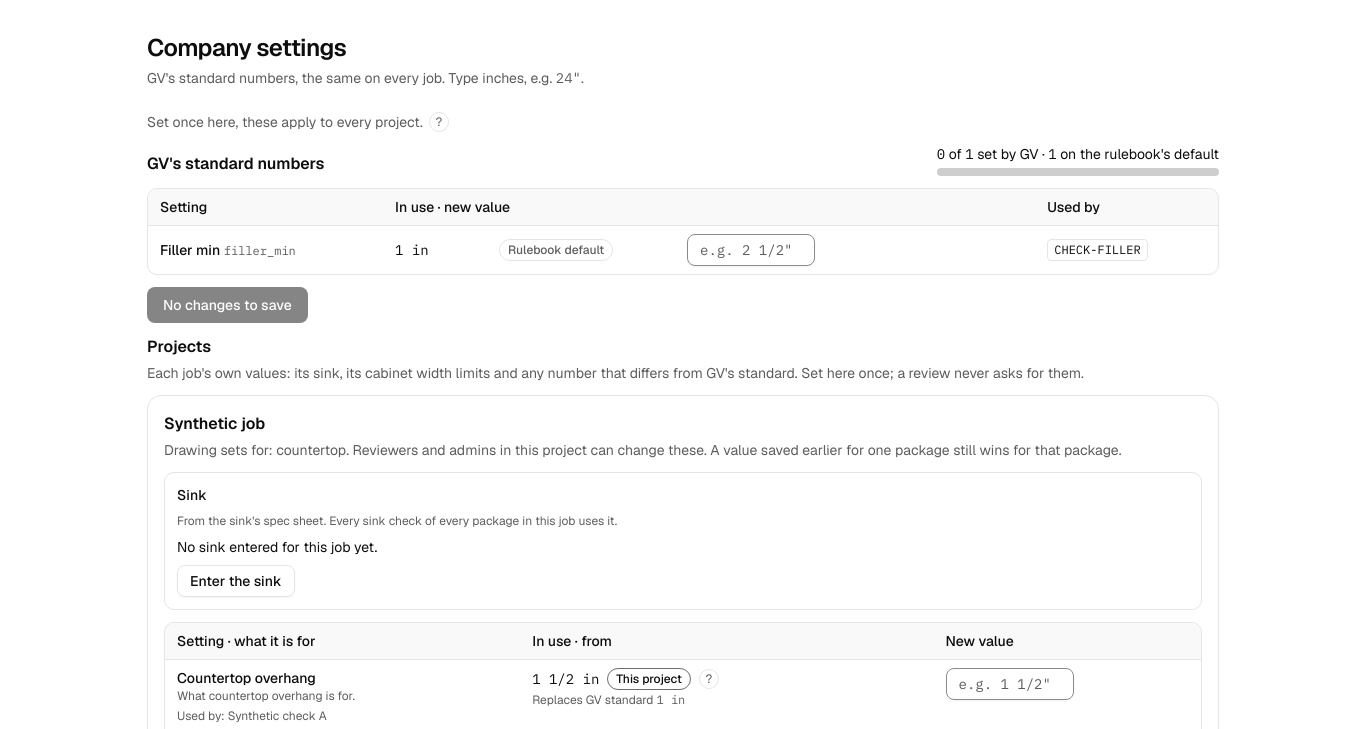
Test: GV's standards: the same plain checks (#1369 items 2 and 4) › asks for the unit before an admin sends a bare number, and says a failed save as a status
Type "1" into the field labelled "Filler min" at coordinates (751, 250), box [687,234,815,266]
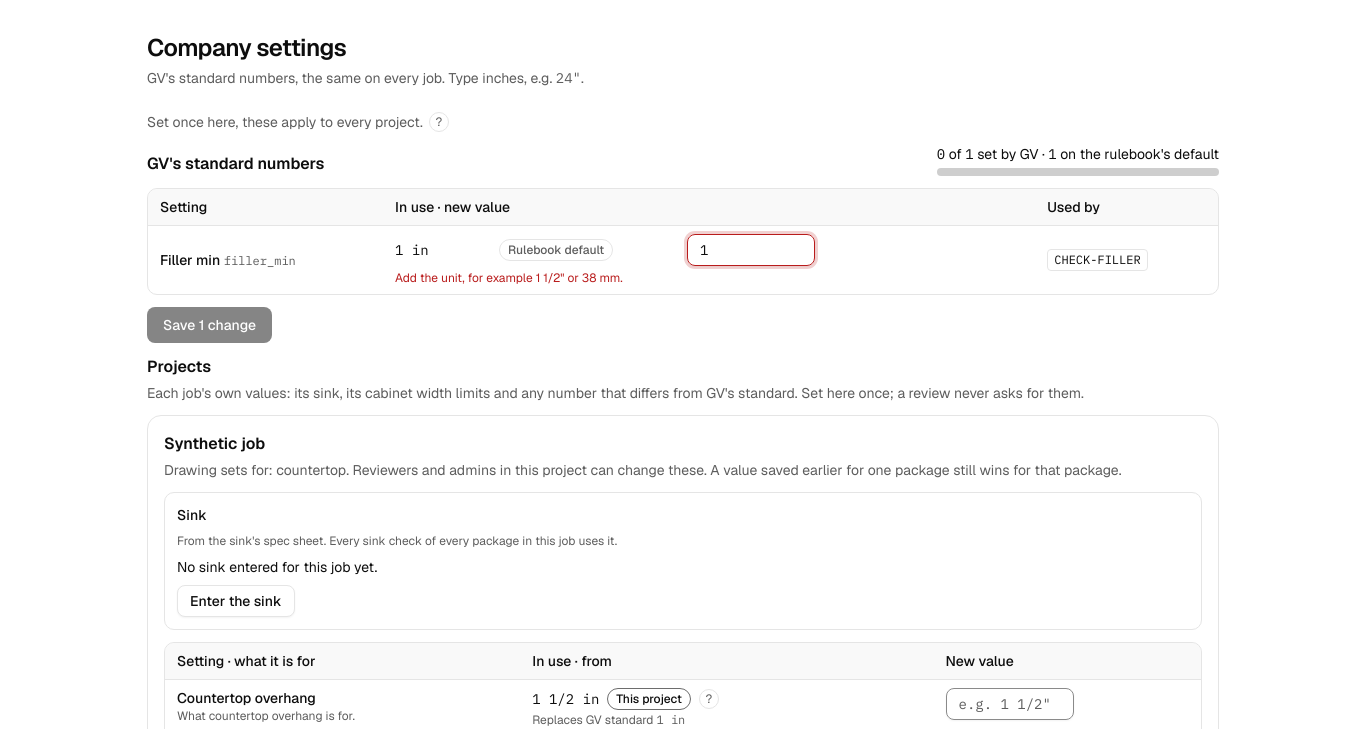
Expected: the button "Save 1 change" is disabled, [147,307,272,343]
Expected: the field labelled "Filler min" is marked as invalid
Type "\"" into the field labelled "Filler min" at coordinates (751, 250), box [687,234,815,266]
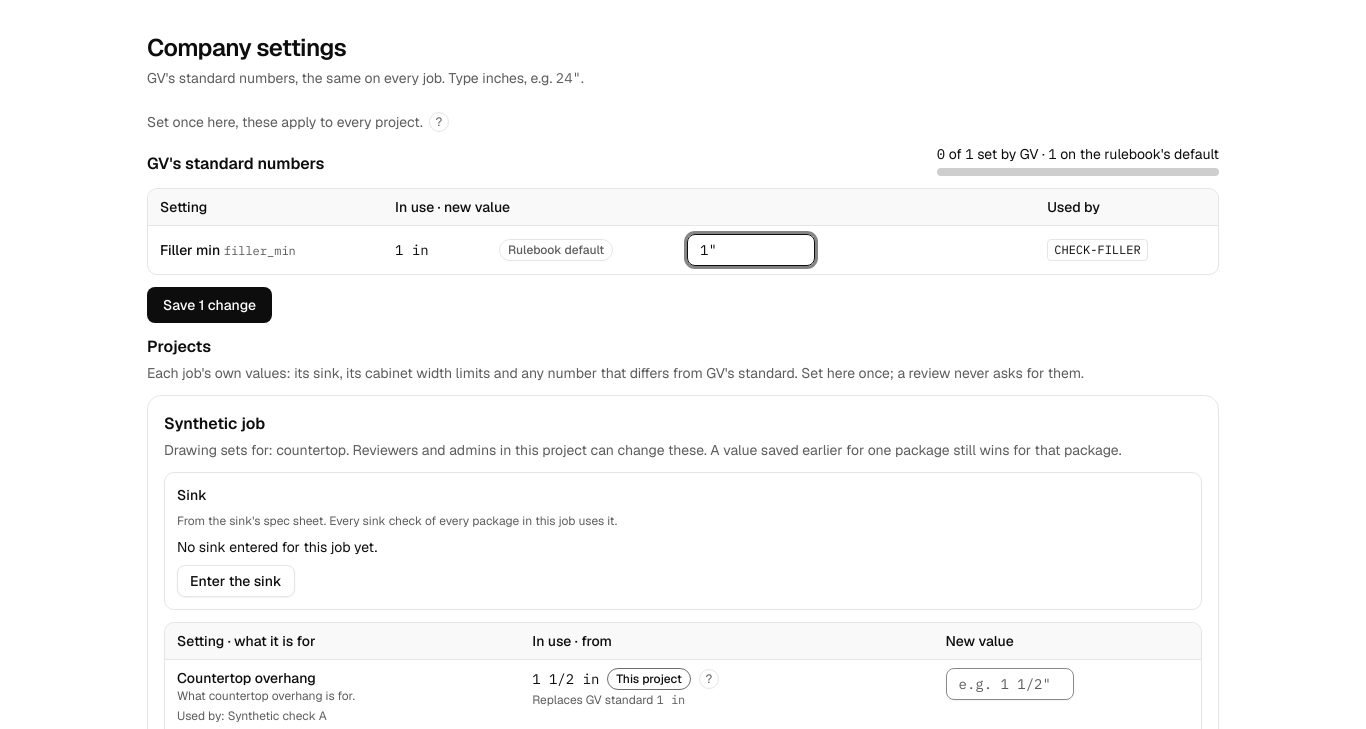
Click the button "Save 1 change" at coordinates (210, 305), box [147,287,272,323]
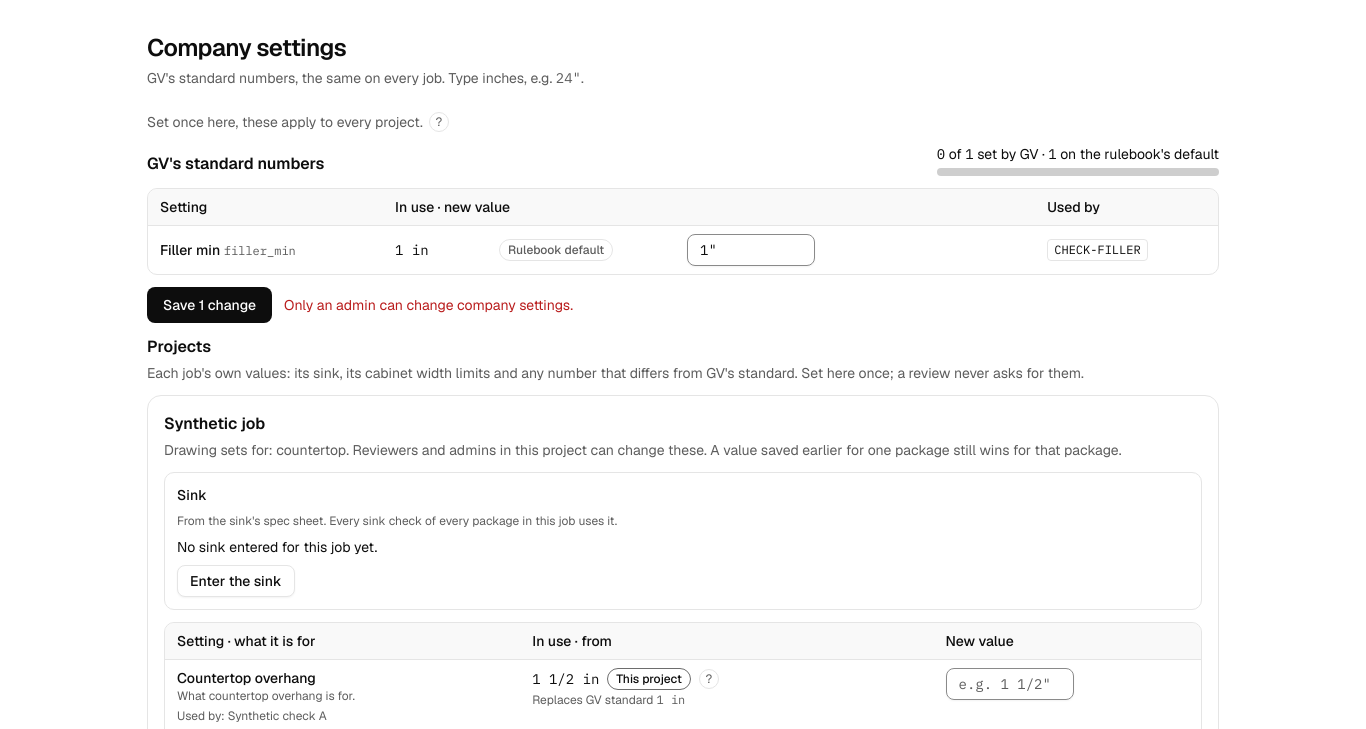
Expected: the text "Only an admin can change company settings." is shown, [284,295,573,315]
